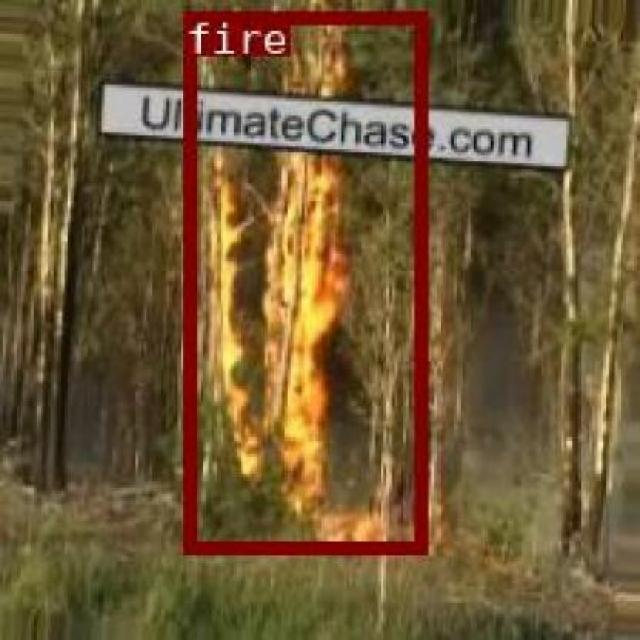Fire: (215, 2, 368, 533)
Smoke: (443, 33, 597, 572)
